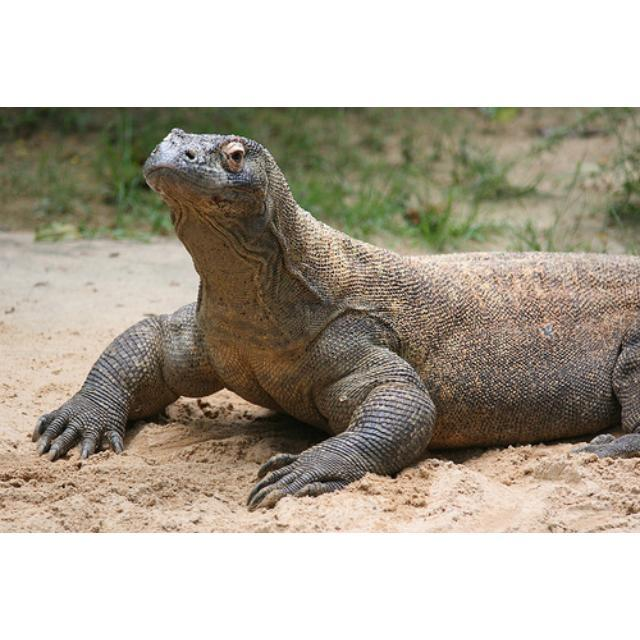KomodoDragon: (33, 128, 638, 513)
